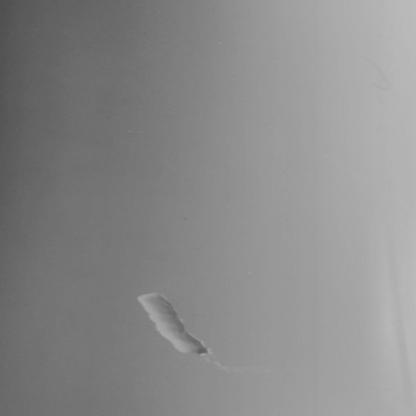sunshang: (139, 291, 209, 357)
